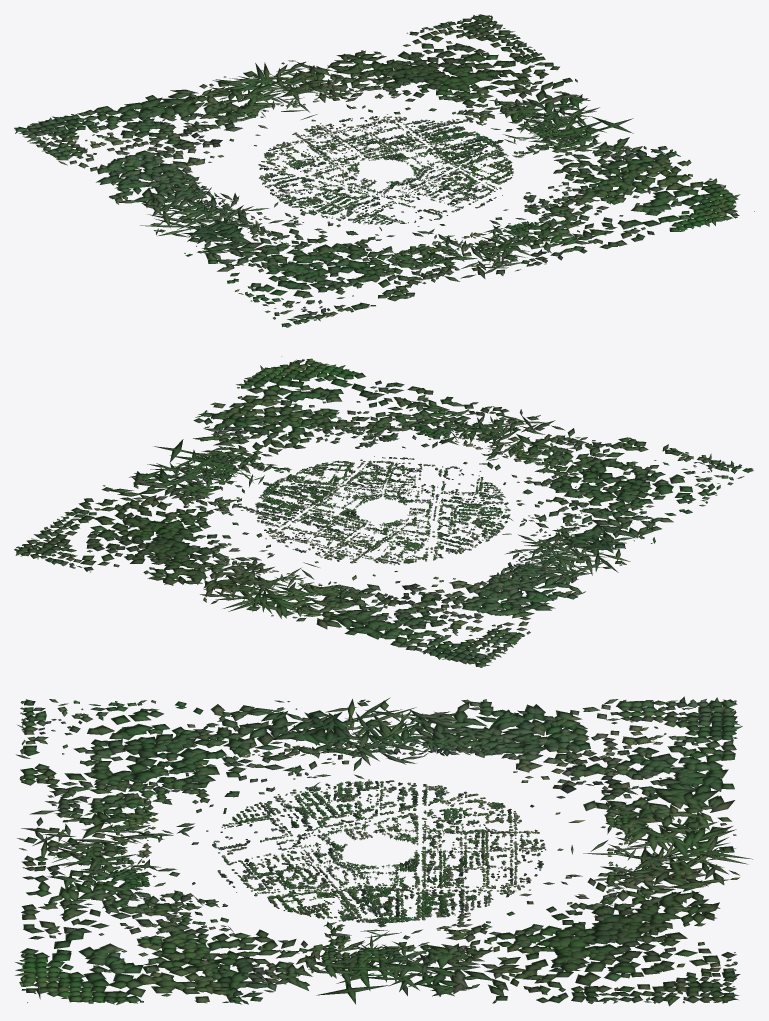
Rendered from jiangwan_backdrop_part2.glb.
3 renders of one model, top to bottom at view 1: azimuth 30°, elevation 25°; view 2: azimuth 150°, elevation 25°; view 3: azimuth 270°, elevation 25°, orthographic. The views are drawn at different scales.
Parts seen in each view (by area): view 1: bg_trees_joined_s14, bg_trees_joined_s12, bg_trees_joined_s11, bg_trees_joined_s15, bg_trees_joined_s08, bg_trees_joined_s13, bg_trees_joined_s10, bg_trees_joined_s09, bg_trees_joined_s04, bg_trees_joined_s03, bg_trees_joined_s00, bg_trees_joined_s05 (+4 smaller); view 2: bg_trees_joined_s14, bg_trees_joined_s11, bg_trees_joined_s12, bg_trees_joined_s15, bg_trees_joined_s13, bg_trees_joined_s08, bg_trees_joined_s10, bg_trees_joined_s09, bg_trees_joined_s04, bg_trees_joined_s03, bg_trees_joined_s00, bg_trees_joined_s05 (+4 smaller); view 3: bg_trees_joined_s11, bg_trees_joined_s14, bg_trees_joined_s12, bg_trees_joined_s15, bg_trees_joined_s13, bg_trees_joined_s08, bg_trees_joined_s10, bg_trees_joined_s09, bg_trees_joined_s04, bg_trees_joined_s03, bg_trees_joined_s00, bg_trees_joined_s06 (+4 smaller).
Boxes of the visible parts, x1,y1,x2,y2 form: bg_trees_joined_s14: (14, 71, 315, 153); bg_trees_joined_s12: (428, 14, 599, 143); bg_trees_joined_s11: (498, 116, 754, 211); bg_trees_joined_s15: (14, 127, 272, 228); bg_trees_joined_s08: (140, 199, 352, 327); bg_trees_joined_s13: (250, 14, 484, 118); bg_trees_joined_s10: (473, 189, 739, 266); bg_trees_joined_s09: (285, 218, 521, 327); bg_trees_joined_s04: (393, 119, 495, 164); bg_trees_joined_s03: (409, 143, 512, 183); bg_trees_joined_s00: (277, 177, 376, 221); bg_trees_joined_s05: (325, 116, 416, 160); bg_trees_joined_s14: (246, 556, 482, 667); bg_trees_joined_s11: (154, 356, 339, 482); bg_trees_joined_s12: (14, 460, 271, 553); bg_trees_joined_s15: (431, 540, 618, 666); bg_trees_joined_s13: (15, 532, 311, 611); bg_trees_joined_s08: (496, 468, 753, 571); bg_trees_joined_s10: (289, 358, 513, 458); bg_trees_joined_s09: (456, 409, 752, 497); bg_trees_joined_s04: (255, 483, 358, 524); bg_trees_joined_s03: (274, 460, 374, 505); bg_trees_joined_s00: (407, 497, 509, 537); bg_trees_joined_s05: (264, 513, 368, 556); bg_trees_joined_s11: (27, 908, 390, 1004); bg_trees_joined_s14: (502, 700, 742, 860); bg_trees_joined_s12: (372, 904, 735, 1006); bg_trees_joined_s15: (365, 696, 736, 794); bg_trees_joined_s13: (508, 846, 752, 999); bg_trees_joined_s08: (23, 699, 387, 794); bg_trees_joined_s10: (15, 848, 236, 999); bg_trees_joined_s09: (16, 701, 254, 854); bg_trees_joined_s04: (378, 862, 491, 922); bg_trees_joined_s03: (268, 863, 379, 922); bg_trees_joined_s00: (267, 779, 379, 840); bg_trees_joined_s06: (406, 802, 545, 853).
Bounding box in the file's own units: 3063 × 54.71 × 3109.
Materials: 1 (1 with a texture image).
